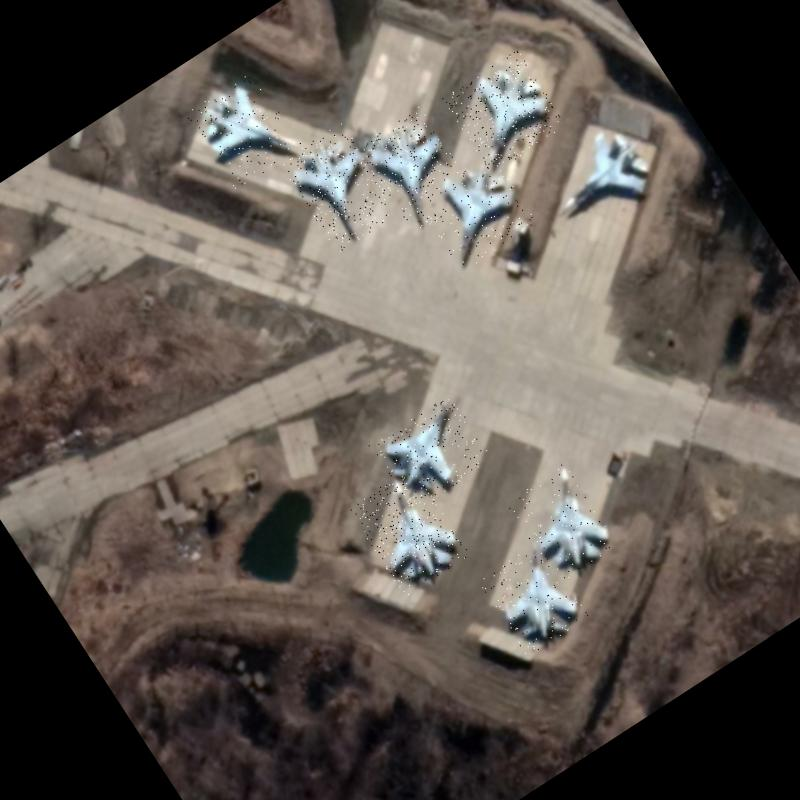A1: (526, 113, 663, 241), (279, 122, 401, 253), (442, 50, 568, 174), (414, 148, 538, 272), (358, 106, 477, 234), (368, 392, 493, 512), (186, 70, 303, 190), (478, 540, 591, 658)
A19: (347, 466, 470, 597), (505, 462, 618, 585)
